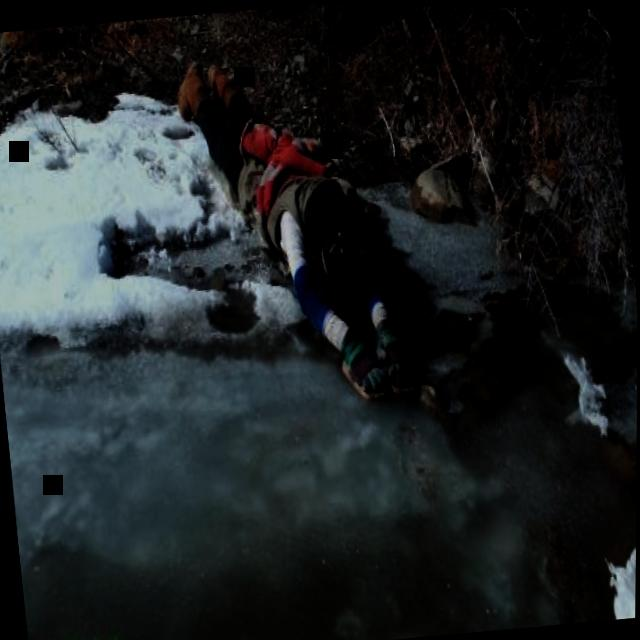Fall-Detected: (160, 13, 440, 431)
